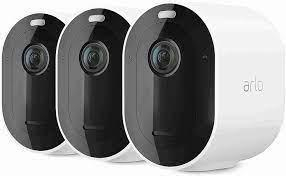tutu: (126, 0, 286, 171)
